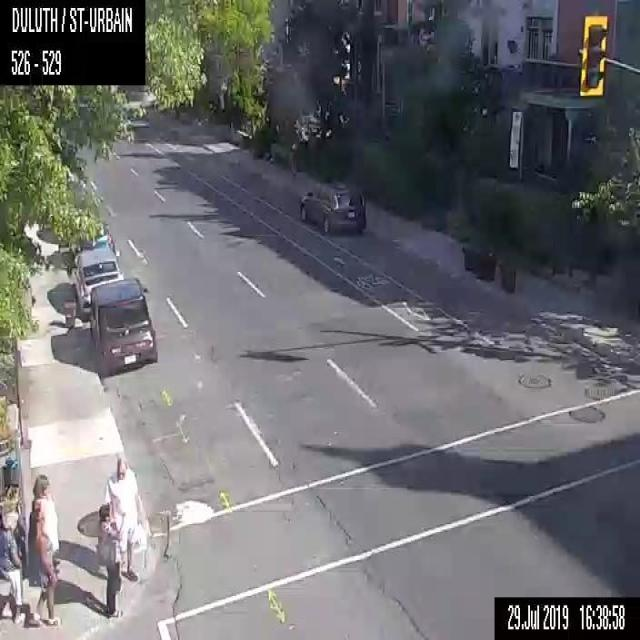pedestrian: (28, 471, 60, 624), (105, 454, 144, 576), (96, 503, 122, 618), (0, 504, 25, 622)
vehicle: (90, 275, 158, 376), (73, 247, 124, 321), (298, 179, 364, 236), (71, 221, 115, 256)
